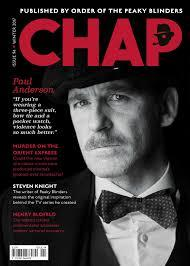Printing industry: (0, 2, 190, 266)
